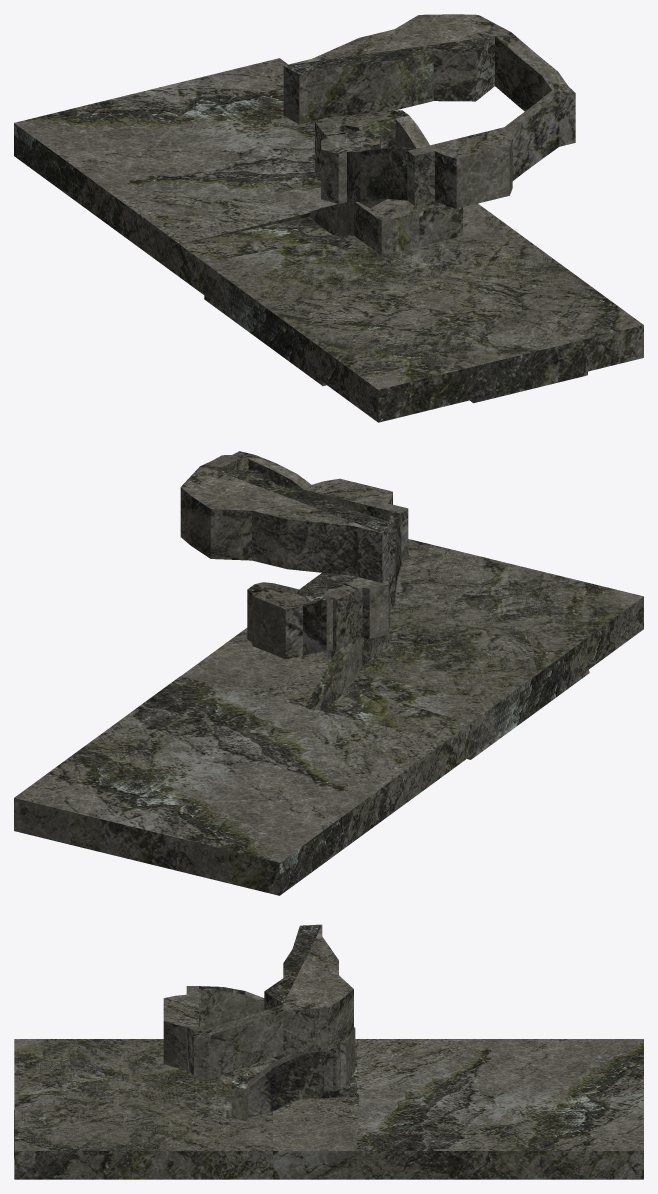
File: 3D_MoeKazan1map.glb
3 views of the same model, one above another, from view 1: azimuth 30°, elevation 25°; view 2: azimuth 150°, elevation 25°; view 3: azimuth 270°, elevation 25° (orthographic). The views are drawn at different scales.
Parts seen in each view (by area): view 1: 平面.002; view 2: 平面.002; view 3: 平面.002.
Part boxes in pixels (x1,y1,x2,y2): 平面.002: (14,14,643,422); 平面.002: (14,451,643,895); 平面.002: (14,924,643,1179).
Size of the model in its own units: 435 by 289 by 912.
Materials: 2 (2 with a texture image).
